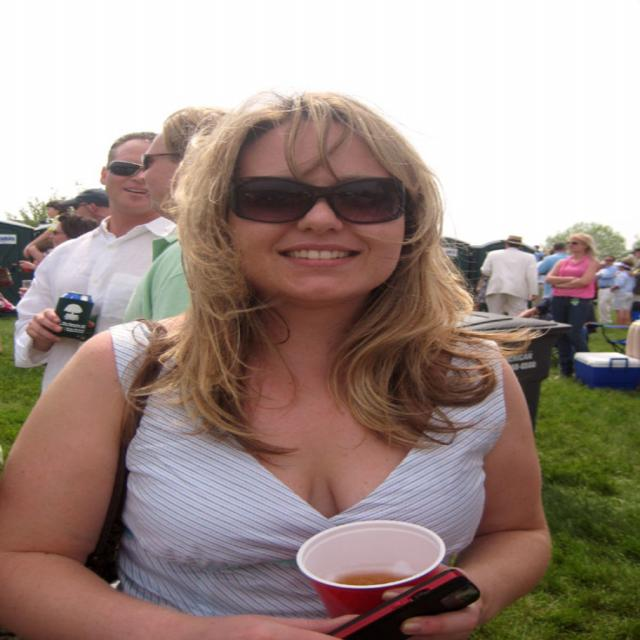Tea: (335, 568, 419, 587)
